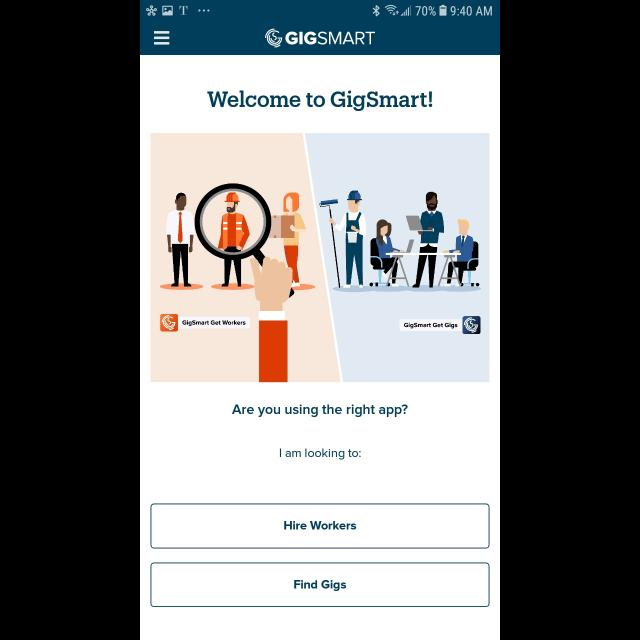icon: (154, 30, 170, 46)
image: (150, 134, 490, 382), (265, 28, 283, 48)
text: (208, 91, 432, 112), (232, 404, 408, 418), (285, 31, 375, 45), (280, 448, 360, 460)
textbutton: (150, 562, 490, 608), (150, 504, 490, 548)
uppertaskbar: (140, 1, 500, 18)
